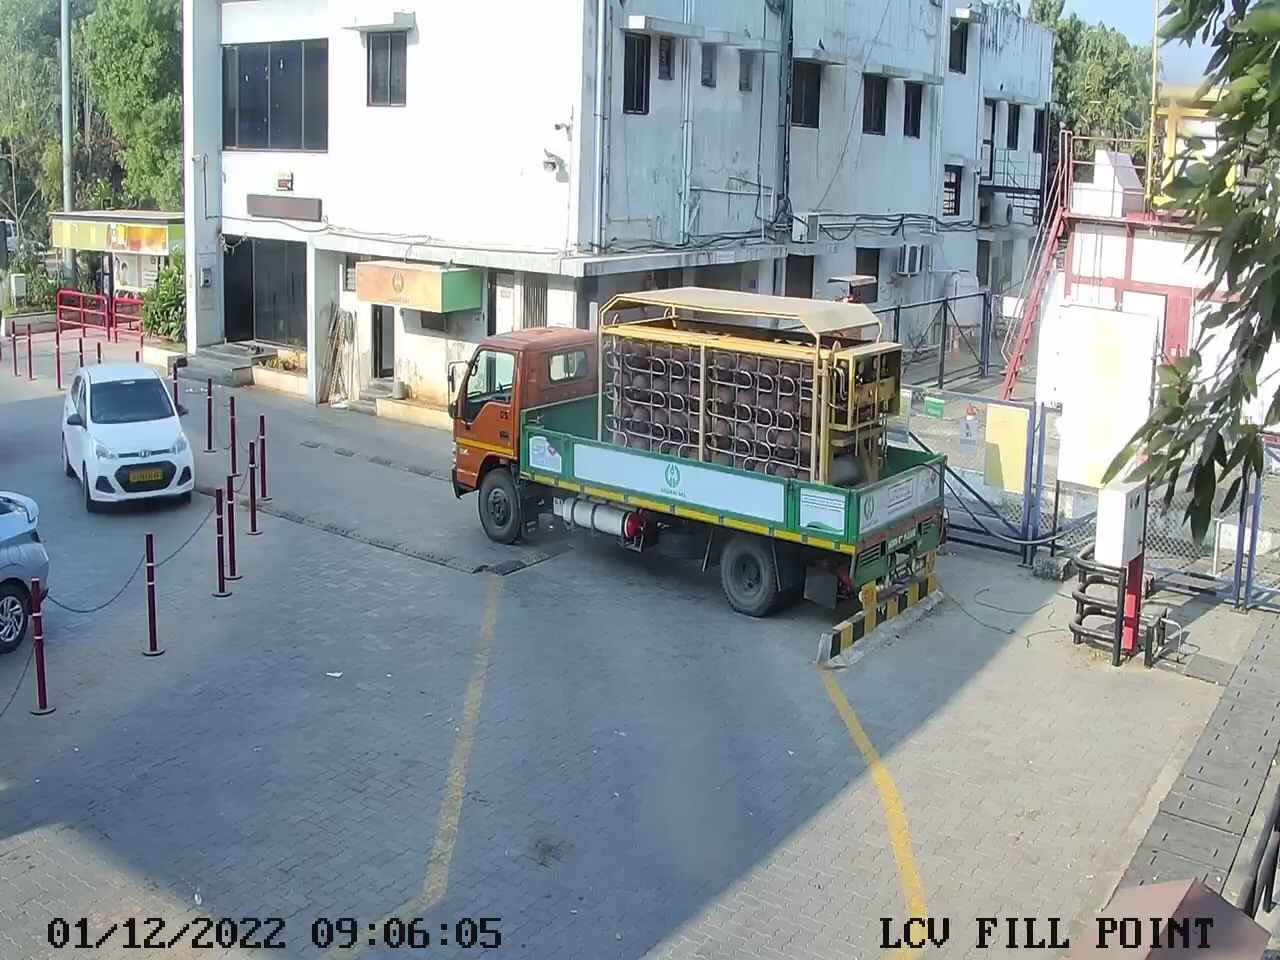Car: (51, 348, 209, 518), (0, 449, 58, 695)
HMV: (441, 276, 958, 624)
